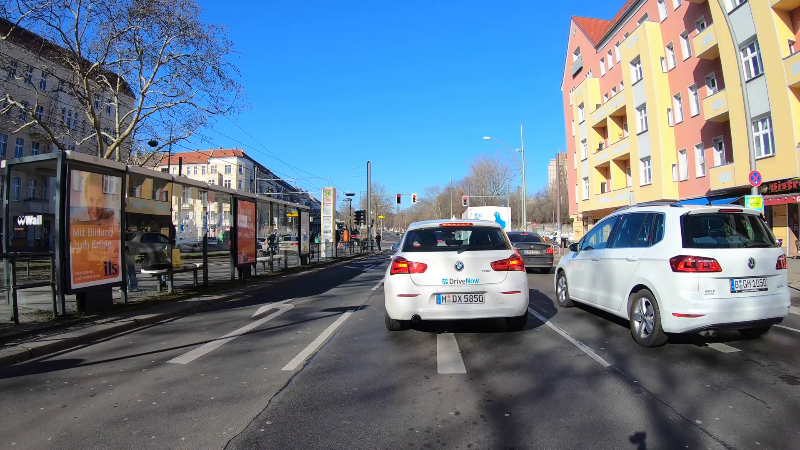Plate: (728, 274, 769, 292), (433, 290, 485, 303)
